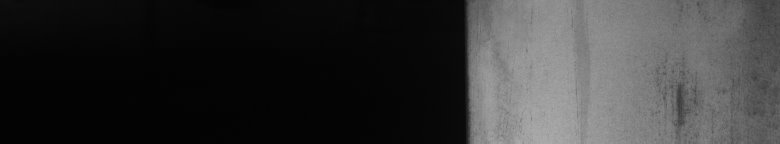ka: (656, 70, 767, 136)
